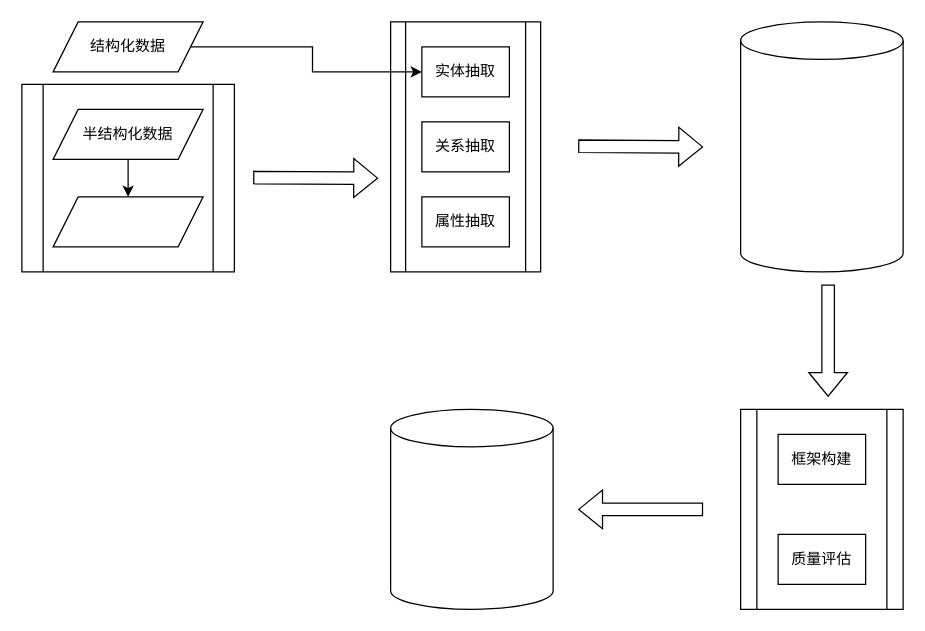
Image size: 925x631. Some labels were removed from this diagram. Here are the shapes that lost their labels. From the top down, the box of each, then its label:
(739, 21, 903, 272): 数据层
(52, 196, 203, 247): 非结构化数据
(389, 408, 553, 609): 知识图谱
